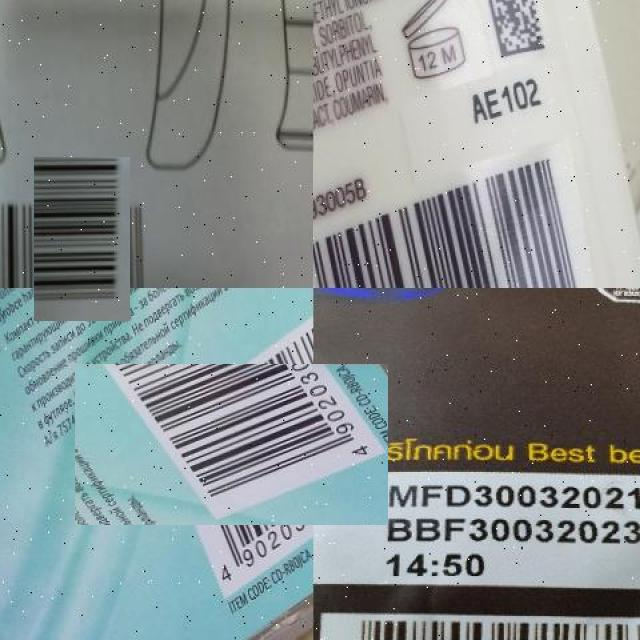Barcode: (113, 326, 351, 563), (314, 161, 610, 288), (17, 174, 147, 305)
